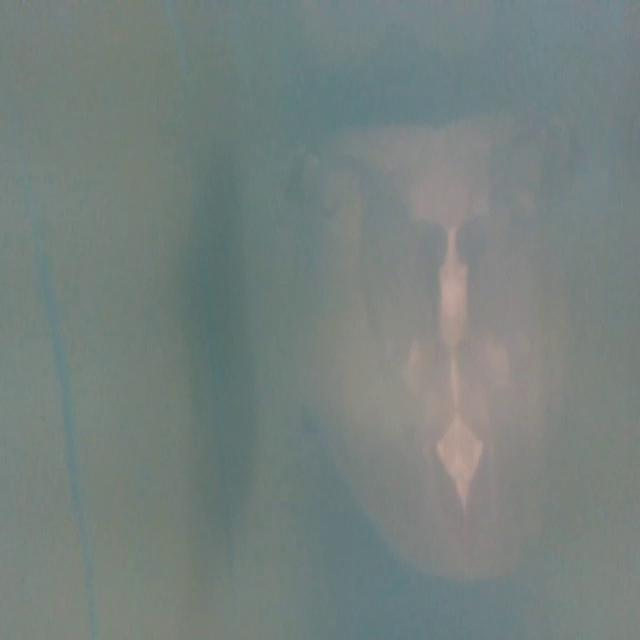plastic bags: (309, 126, 564, 580)
